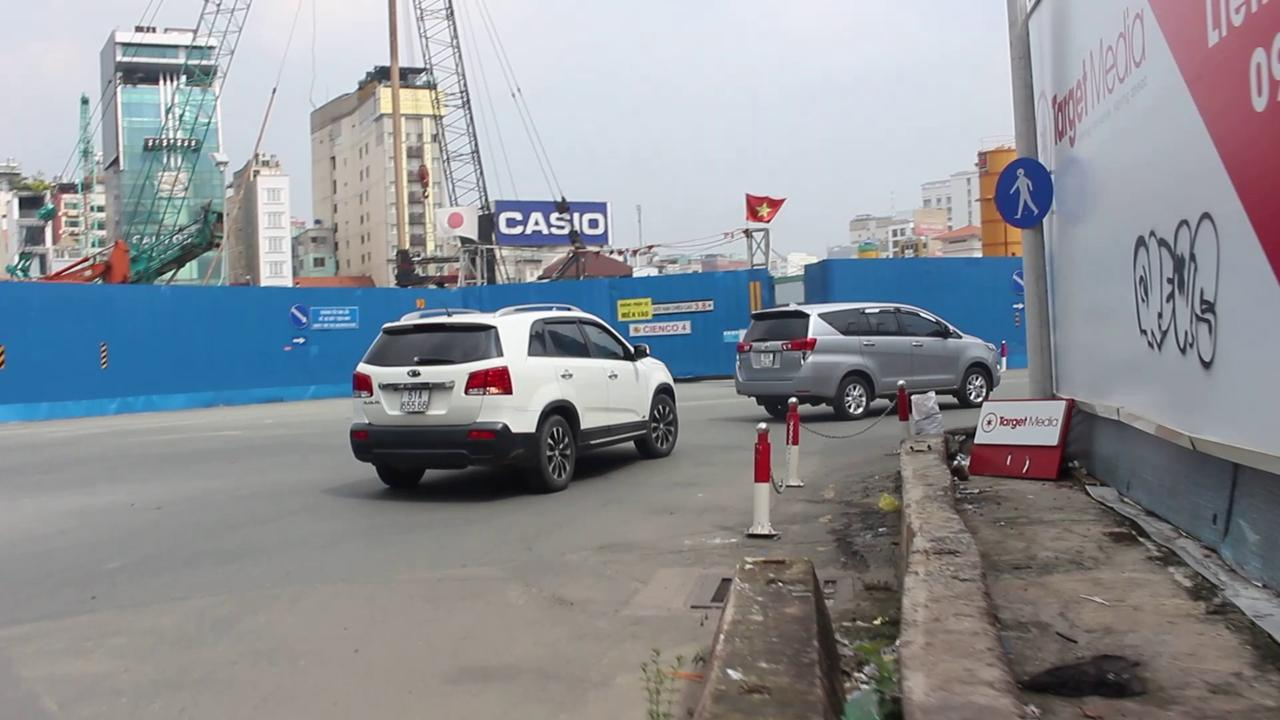P.123a: (996, 160, 1052, 223)
